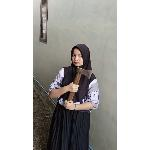Kapak: (66, 65, 96, 105)
